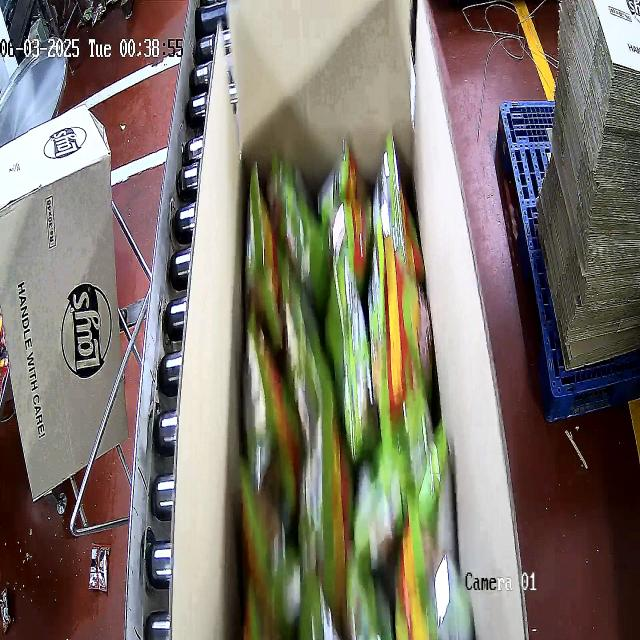YOGURT_HERB: (241, 127, 472, 638)
